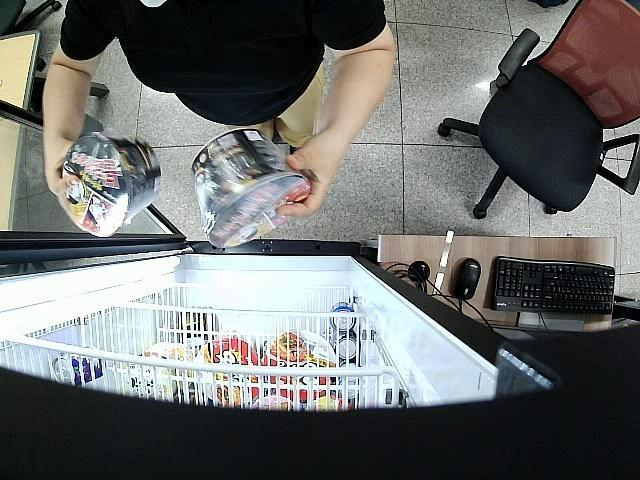07_buldak_L: (188, 128, 308, 250), (61, 131, 162, 238)
